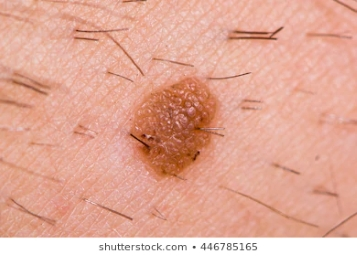seborrheic keratosis: (130, 60, 226, 190)
